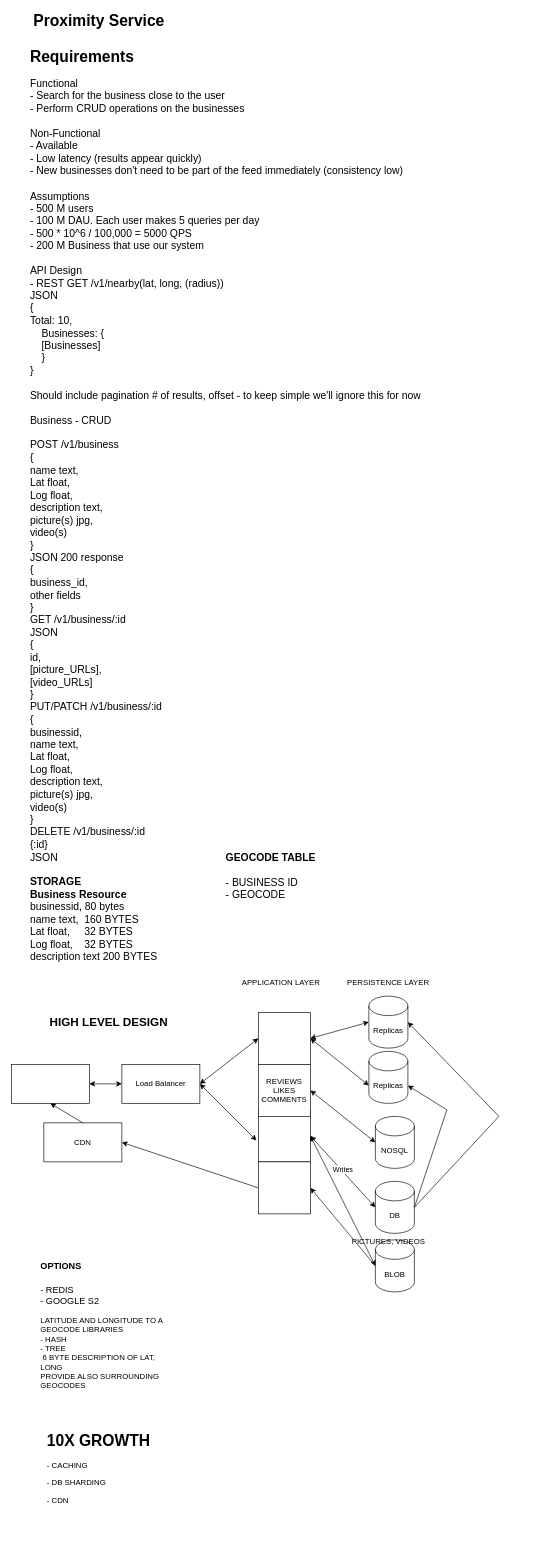
The diagram is 556 pixels wide and 1550 high, and some of its shapes have lost their labels. The box of each missing label's shape, as (x1, y1, x2, y2) in pixels:
Business Service (CRUD): (258, 1109, 310, 1162)
CACHING SERVICE: (258, 1161, 310, 1214)
CLIENT APP: (11, 1064, 89, 1103)
Proximity Service /v1/nearby: (258, 1012, 310, 1064)
